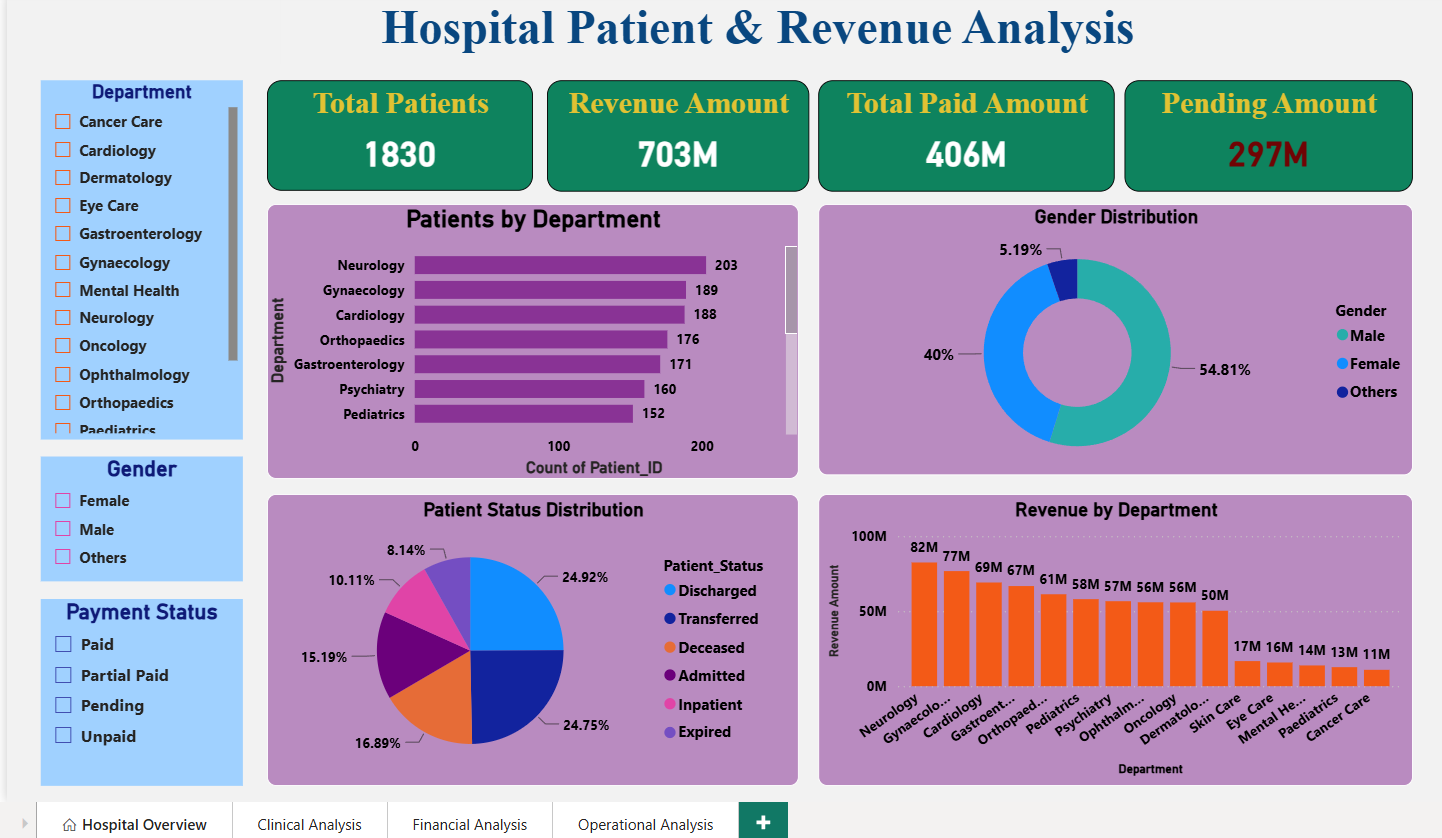

The dashboard page shown, as its layout file describes it:
{"tool":"powerbi","page":{"name":"Hospital Overview","canvas":[1280,720],"ordinal":0},"visuals":[{"type":"clusteredColumnChart","title":"Revenue by Department","fields":{"Category":["Raw_Patient_Data.Department"],"Y":["Raw_Patient_Data.Revenue Amount"]},"box":[722.5,445.1,529.7,260.2],"z":0},{"type":"slicer","title":"Department","fields":{"Values":["Raw_Patient_Data.Department"]},"box":[29.8,76.8,180.2,319.7],"z":1000},{"type":"slicer","title":"Gender","fields":{"Values":["Raw_Patient_Data.Gender"]},"box":[29.8,412.2,180.2,111.3],"z":2000},{"type":"slicer","title":"Payment Status","fields":{"Values":["Raw_Patient_Data.Payment_Status"]},"box":[29.8,539.1,180.2,166.1],"z":3000},{"type":"clusteredBarChart","title":"Patients by Department","fields":{"Category":["Raw_Patient_Data.Department"],"Y":["CountNonNull(Raw_Patient_Data.Patient_ID)"]},"box":[232,186.5,473.3,244.5],"z":4000},{"type":"donutChart","title":"Gender Distribution","fields":{"Category":["Raw_Patient_Data.Gender"],"Y":["CountNonNull(Raw_Patient_Data.Patient_ID)"]},"box":[722.5,186.5,529.7,241.4],"z":5000},{"type":"pieChart","title":"Patient Status Distribution","fields":{"Category":["Raw_Patient_Data.Patient_Status"],"Y":["CountNonNull(Raw_Patient_Data.Patient_ID)"]},"box":[232,445.1,473.3,260.2],"z":6000},{"type":"textbox","box":[243.3,0,849.9,62.4],"z":7000},{"type":"card","title":"Total Paid Amount","fields":{"Values":["Raw_Patient_Data.Total Paid Amount"]},"box":[722.7,77,264.1,99],"z":8000},{"type":"card","title":"Pending Amount","fields":{"Values":["Raw_Patient_Data.Pending Amount"]},"box":[995.4,77,256.8,99],"z":9000},{"type":"card","title":"Revenue Amount","fields":{"Values":["Raw_Patient_Data.Revenue Amount"]},"box":[480.6,77,233.6,99],"z":10000},{"type":"card","title":"Total Patients","fields":{"Values":["Raw_Patient_Data.Total Patients"]},"box":[232,76.8,236.7,98.7],"z":11000}]}

Visuals, with their boxes on the page's 1280x720 design canvas (x1, y1, x2, y2). These are canvas units, not pixel positions in the 1442x838 screenshot, which may show the page scaled, cropped or inside an application window:
"Revenue by Department" clusteredColumnChart: [left=722, top=445, right=1252, bottom=705]
"Department" slicer: [left=30, top=77, right=210, bottom=396]
"Gender" slicer: [left=30, top=412, right=210, bottom=524]
"Payment Status" slicer: [left=30, top=539, right=210, bottom=705]
"Patients by Department" clusteredBarChart: [left=232, top=186, right=705, bottom=431]
"Gender Distribution" donutChart: [left=722, top=186, right=1252, bottom=428]
"Patient Status Distribution" pieChart: [left=232, top=445, right=705, bottom=705]
textbox: [left=243, top=0, right=1093, bottom=62]
"Total Paid Amount" card: [left=723, top=77, right=987, bottom=176]
"Pending Amount" card: [left=995, top=77, right=1252, bottom=176]
"Revenue Amount" card: [left=481, top=77, right=714, bottom=176]
"Total Patients" card: [left=232, top=77, right=469, bottom=176]
